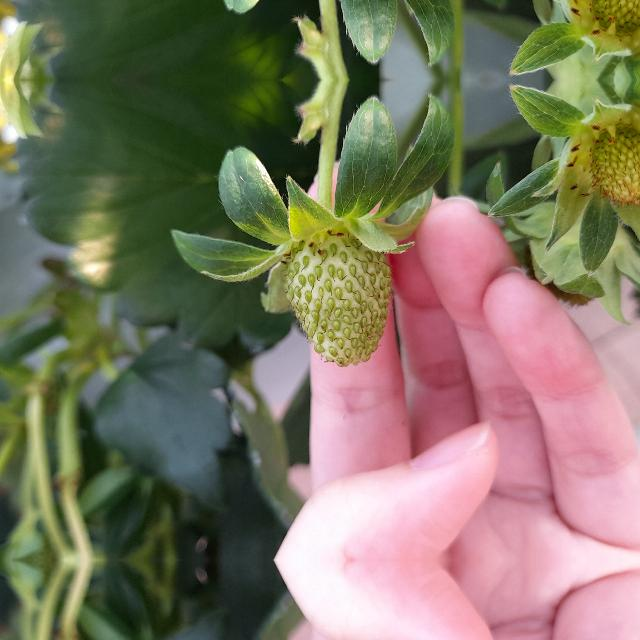Health_25: (281, 221, 393, 367)
